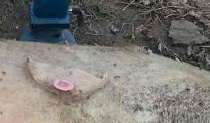text: (44, 72, 90, 99)
